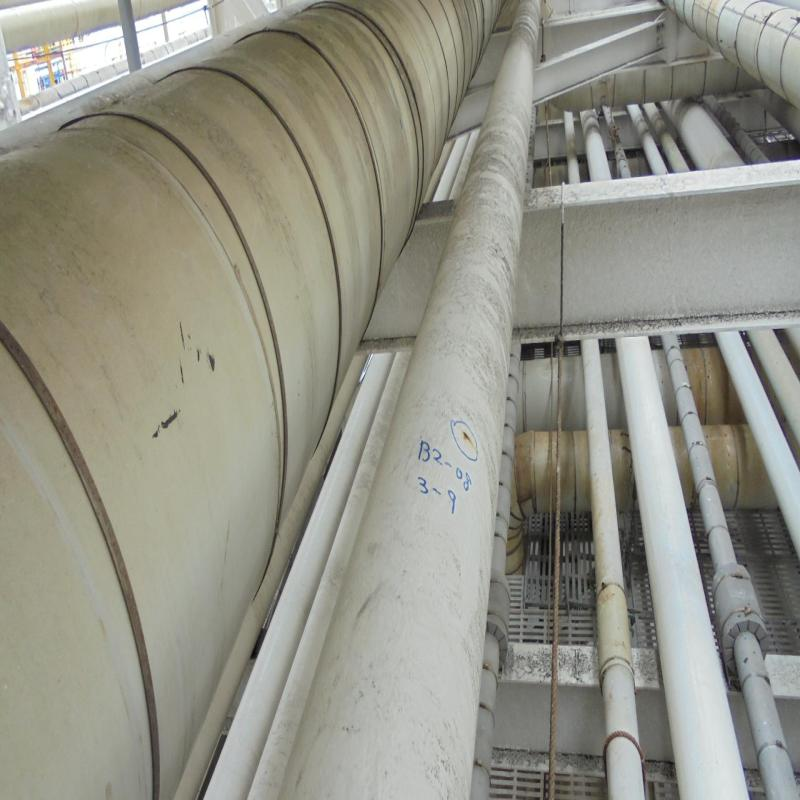corrosion: (464, 420, 478, 459)
